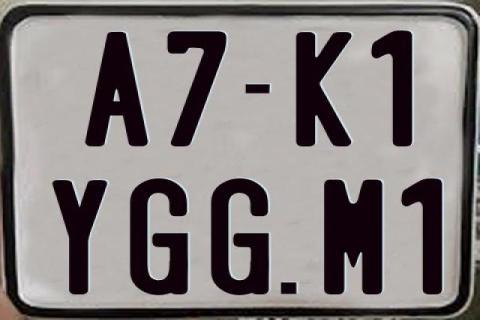0: (166, 29, 231, 149), (400, 178, 447, 298), (369, 28, 412, 146)
A: (84, 32, 148, 150)
G: (209, 177, 270, 295), (127, 176, 185, 298)
K: (296, 31, 352, 145)
M: (321, 180, 383, 298)
Y: (49, 179, 110, 295)
